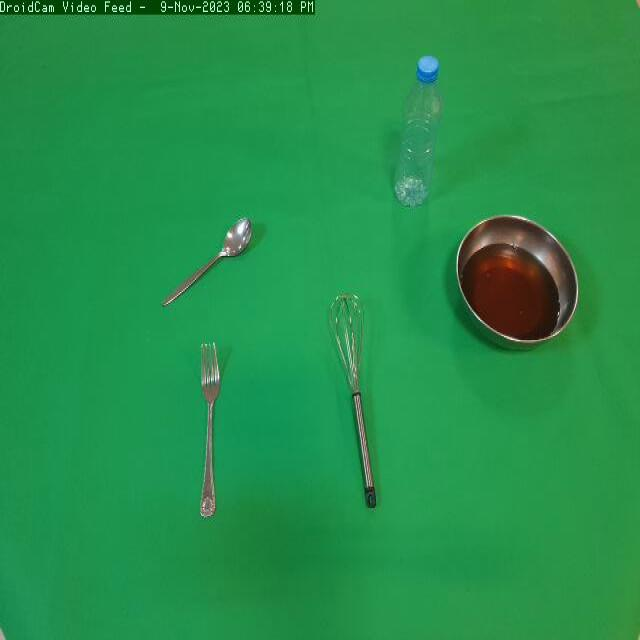bottle: (385, 48, 451, 227)
fork: (188, 332, 242, 534)
fullbowl: (449, 207, 583, 356)
spoon: (156, 201, 256, 307)
whisk: (326, 288, 403, 521)
